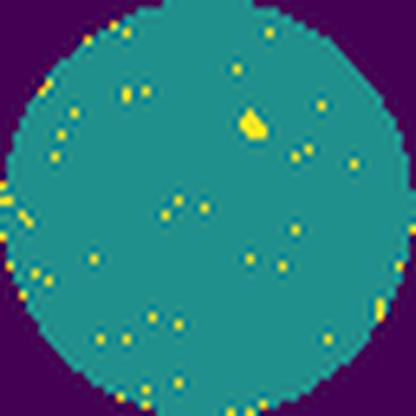Loc: (236, 104, 271, 142)
